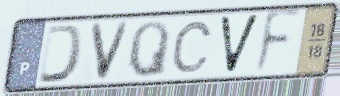C: (170, 19, 215, 75)
D: (35, 23, 87, 86)
F: (251, 7, 304, 79)
Q: (125, 19, 172, 80)
V: (88, 19, 133, 83), (217, 13, 262, 76)
